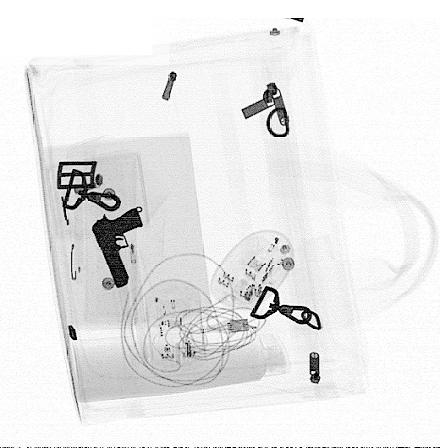Gun: (91, 207, 144, 289)
